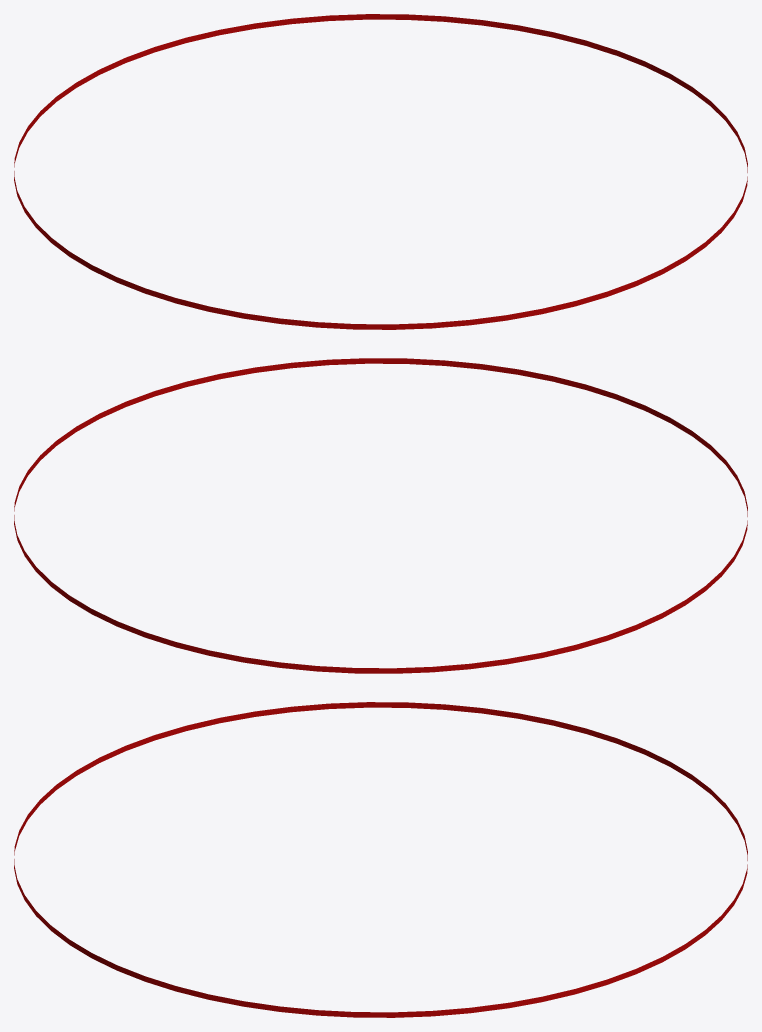
The model's file is original-25.obj.
The picture shows the model from 3 angles, top to bottom: view 1: azimuth 30°, elevation 25°; view 2: azimuth 150°, elevation 25°; view 3: azimuth 270°, elevation 25°; orthographic projection.
Parts seen in each view (by area): view 1: #ID221; view 2: #ID221; view 3: #ID221.
Boxes of the visible parts, box(x1,y1,x2,y2) form: #ID221: box(14, 14, 747, 329); #ID221: box(14, 358, 747, 673); #ID221: box(14, 702, 747, 1017).
Bounding box in the file's own units: 0.402 × 0.00346 × 0.402.
